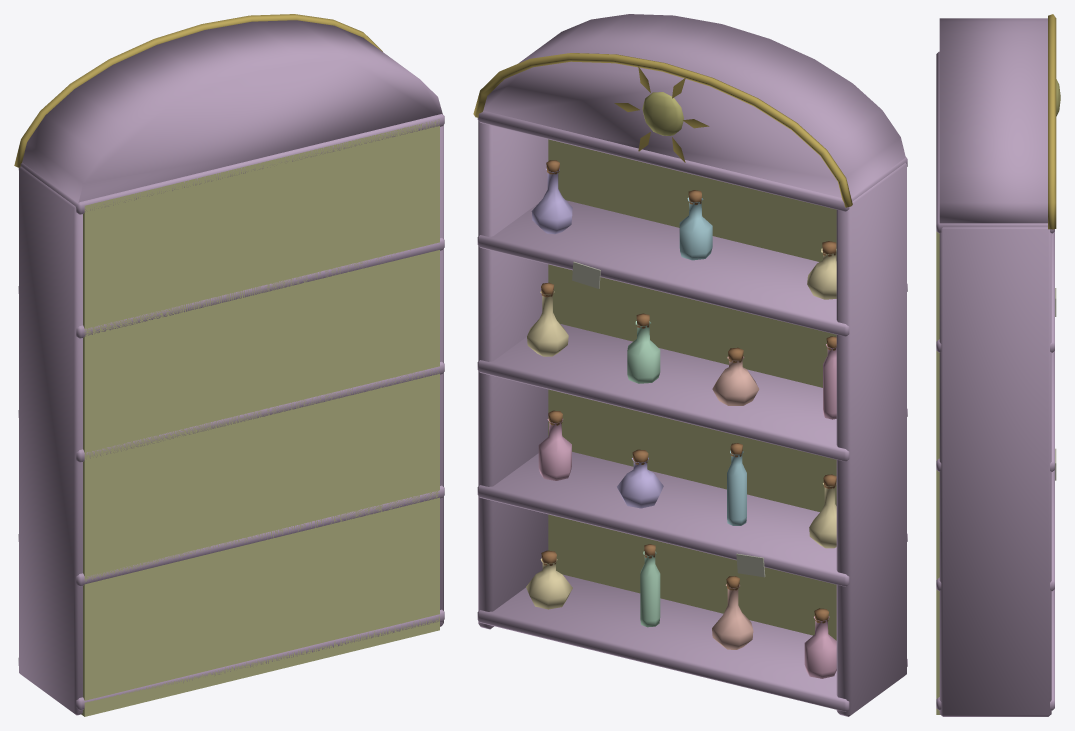
Rendered from potion_shelf.glb.
The picture shows the model from 3 angles, left to right: view 1: azimuth 30°, elevation 25°; view 2: azimuth 150°, elevation 25°; view 3: azimuth 270°, elevation 25°; orthographic projection. The views are drawn at different scales.
Visible parts, largest first — view 1: potion_shelf; view 2: potion_shelf; view 3: potion_shelf.
Boxes of the visible parts, x1=… form: potion_shelf: x1=14, y1=14, x2=444, y2=716; potion_shelf: x1=473, y1=14, x2=907, y2=716; potion_shelf: x1=936, y1=14, x2=1060, y2=716.
Size of what is drawn, in the model's own units: 1.27 by 1.95 by 0.377.
